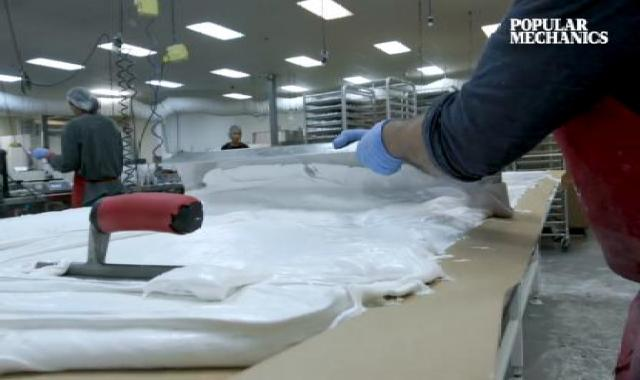hairnet: (63, 86, 104, 116), (226, 123, 247, 142)
